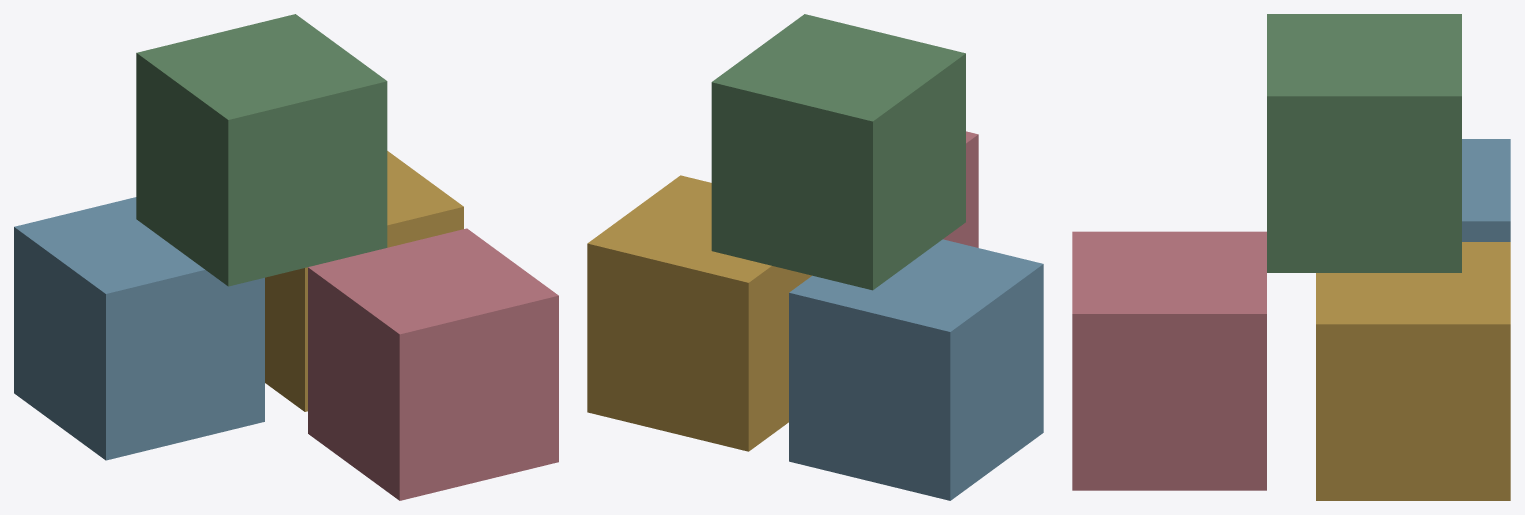
3 views of the same model, side by side, from view 1: azimuth 30°, elevation 25°; view 2: azimuth 150°, elevation 25°; view 3: azimuth 270°, elevation 25° (orthographic). The views are drawn at different scales.
Visible parts, largest first — view 1: Tensor blocks; view 2: Tensor blocks; view 3: Tensor blocks.
Part boxes in pixels (<box>): Tensor blocks: <box>14,14,558,500</box>; Tensor blocks: <box>587,14,1043,500</box>; Tensor blocks: <box>1072,14,1510,500</box>.
Size of the model in its own units: 1.44 by 1.28 by 1.44.
